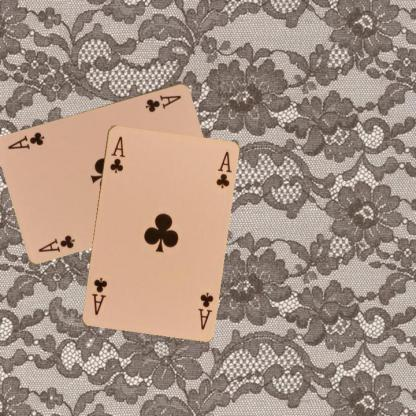Ac: (142, 92, 182, 113), (36, 232, 76, 253), (107, 134, 126, 174), (196, 290, 214, 331)
